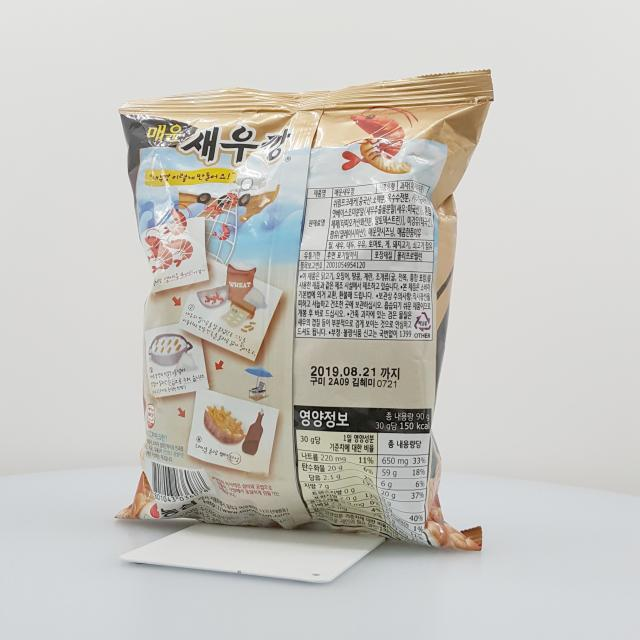-90G: (114, 70, 495, 552)
